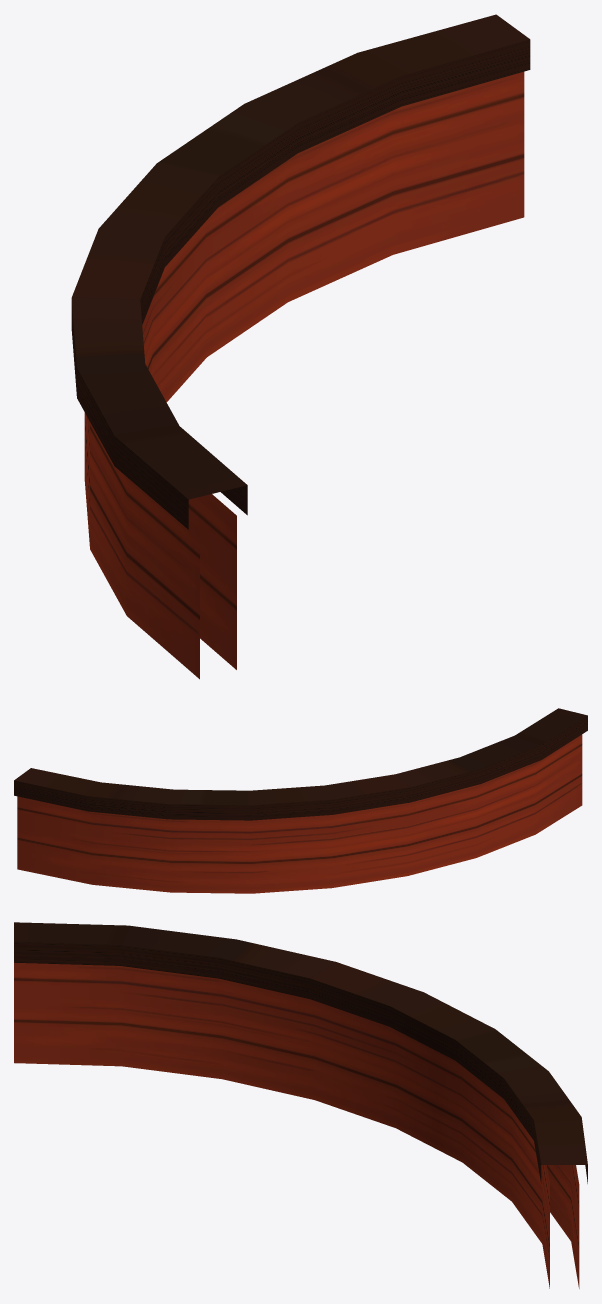
File: Boat_End_Right.fbx
3 renders of one model, top to bottom at view 1: azimuth 30°, elevation 25°; view 2: azimuth 150°, elevation 25°; view 3: azimuth 270°, elevation 25°, orthographic. The views are drawn at different scales.
Parts seen in each view (by area): view 1: Boat_End_Right; view 2: Boat_End_Right; view 3: Boat_End_Right.
Boxes of the visible parts, left/top/right/bottom form: Boat_End_Right: left=71, top=14, right=530, bottom=679; Boat_End_Right: left=14, top=708, right=587, bottom=893; Boat_End_Right: left=14, top=922, right=587, bottom=1288.
Bounding box in the file's own units: 6.26 × 1.5 × 6.26.
Materials: 1 (1 with a texture image).
